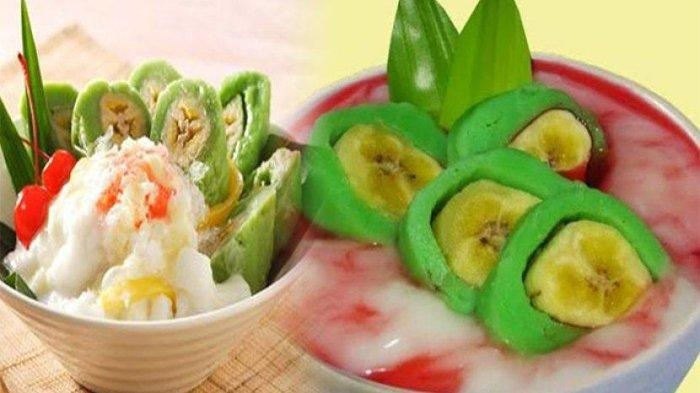pisang_ijo: (467, 189, 646, 359)
